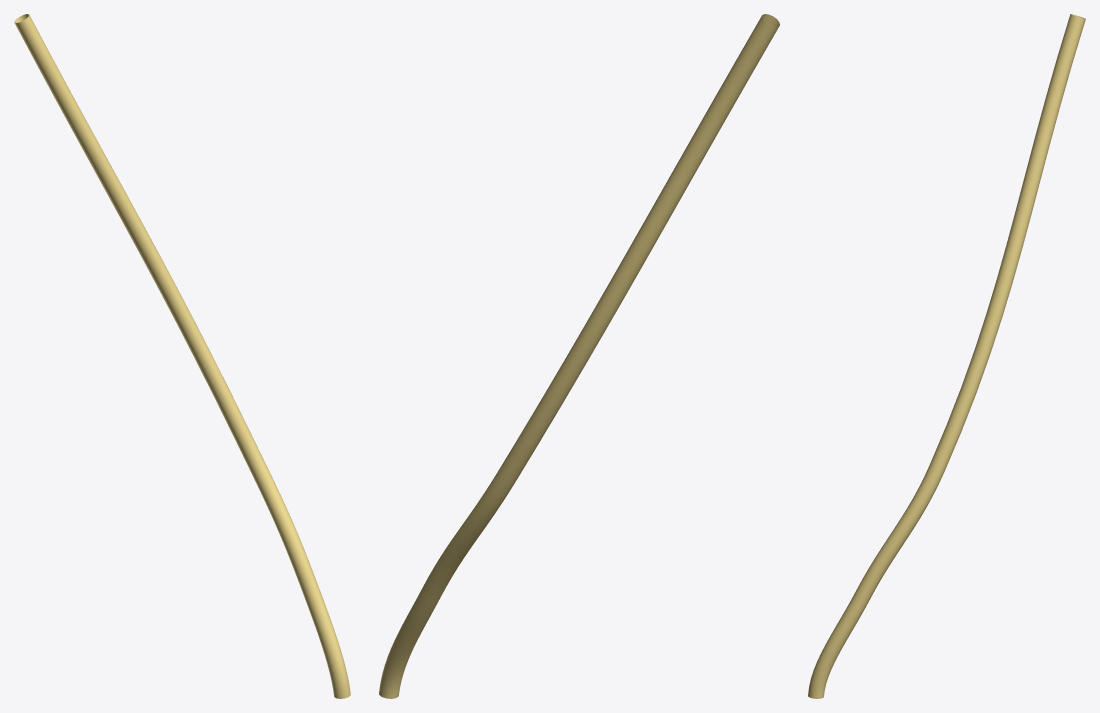
3 views of the same model, side by side, from view 1: azimuth 30°, elevation 25°; view 2: azimuth 210°, elevation 25°; view 3: azimuth 270°, elevation 25° (orthographic). The views are drawn at different scales.
Parts seen in each view (by area): view 1: ZA_3c406a04aa1b38a6; view 2: ZA_3c406a04aa1b38a6; view 3: ZA_3c406a04aa1b38a6.
Boxes of the visible parts, bbox=[...] form: ZA_3c406a04aa1b38a6: bbox=[14, 14, 350, 698]; ZA_3c406a04aa1b38a6: bbox=[379, 14, 779, 698]; ZA_3c406a04aa1b38a6: bbox=[808, 14, 1085, 698].
Size of the model in its own units: 0.0133 by 0.0401 by 0.0169.
